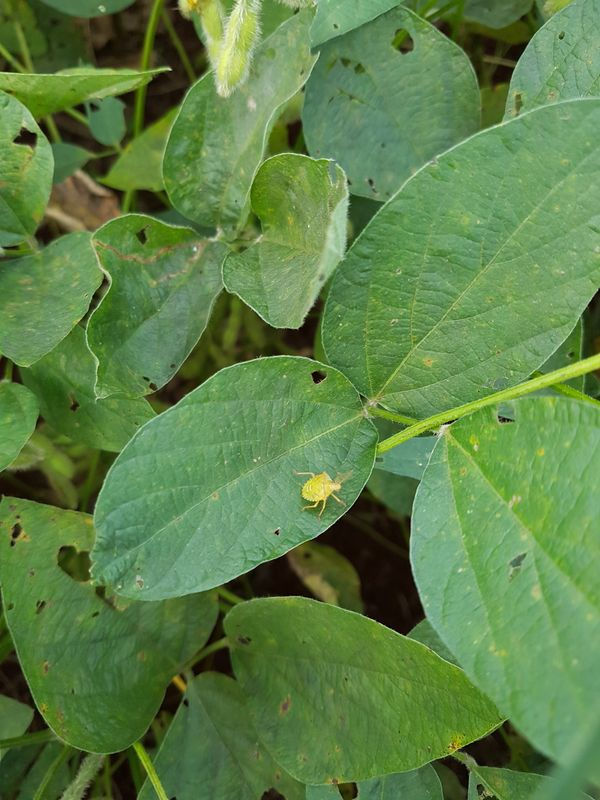Euschistus_heros_ninfa: (285, 459, 354, 524)
